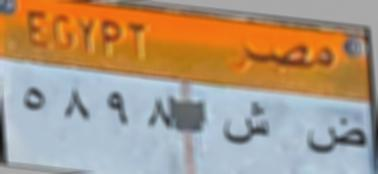5: (17, 85, 49, 116)
8: (60, 85, 94, 130), (145, 93, 173, 136)
9: (104, 86, 134, 135)
daad: (304, 114, 366, 162)
sheen: (222, 97, 273, 152)
